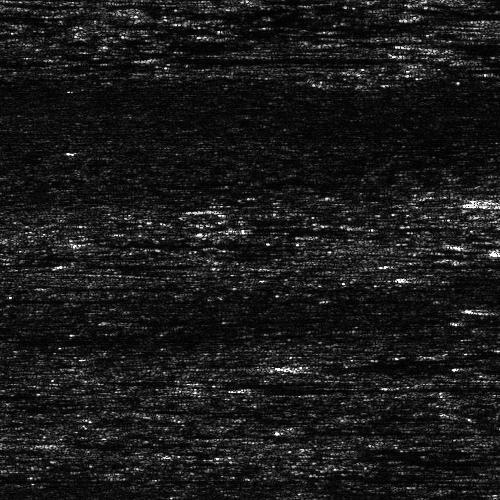object: (256, 359, 371, 372), (369, 37, 474, 50), (425, 243, 500, 260), (249, 421, 312, 436), (396, 270, 479, 281), (456, 197, 500, 208), (129, 52, 182, 61), (444, 304, 497, 311), (11, 441, 84, 446), (27, 261, 100, 266), (439, 318, 480, 325), (413, 0, 496, 3), (54, 239, 85, 244), (222, 386, 253, 389), (455, 364, 486, 367), (411, 14, 432, 17)
shadow: (281, 421, 444, 436), (155, 52, 390, 61), (314, 359, 476, 372), (422, 37, 500, 50), (437, 270, 500, 281), (238, 386, 397, 389), (48, 441, 125, 446), (64, 261, 140, 266), (69, 239, 144, 244), (0, 11, 31, 22), (459, 318, 500, 325), (422, 14, 500, 17), (471, 364, 500, 367)
